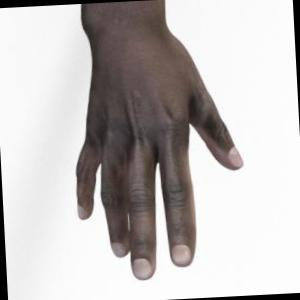paper: (76, 0, 242, 279)
